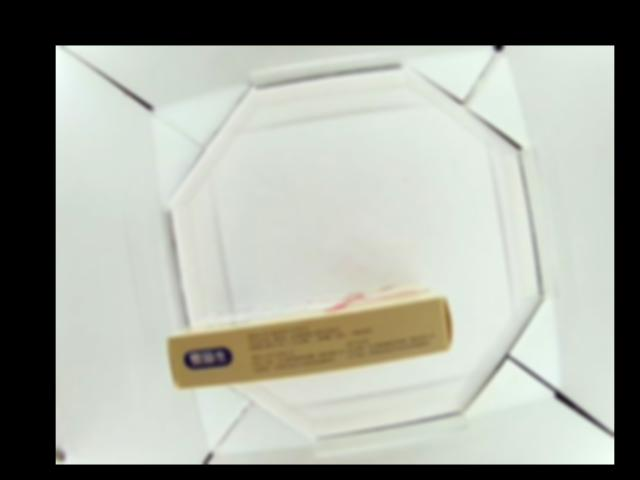Medicine: (169, 282, 454, 390)
